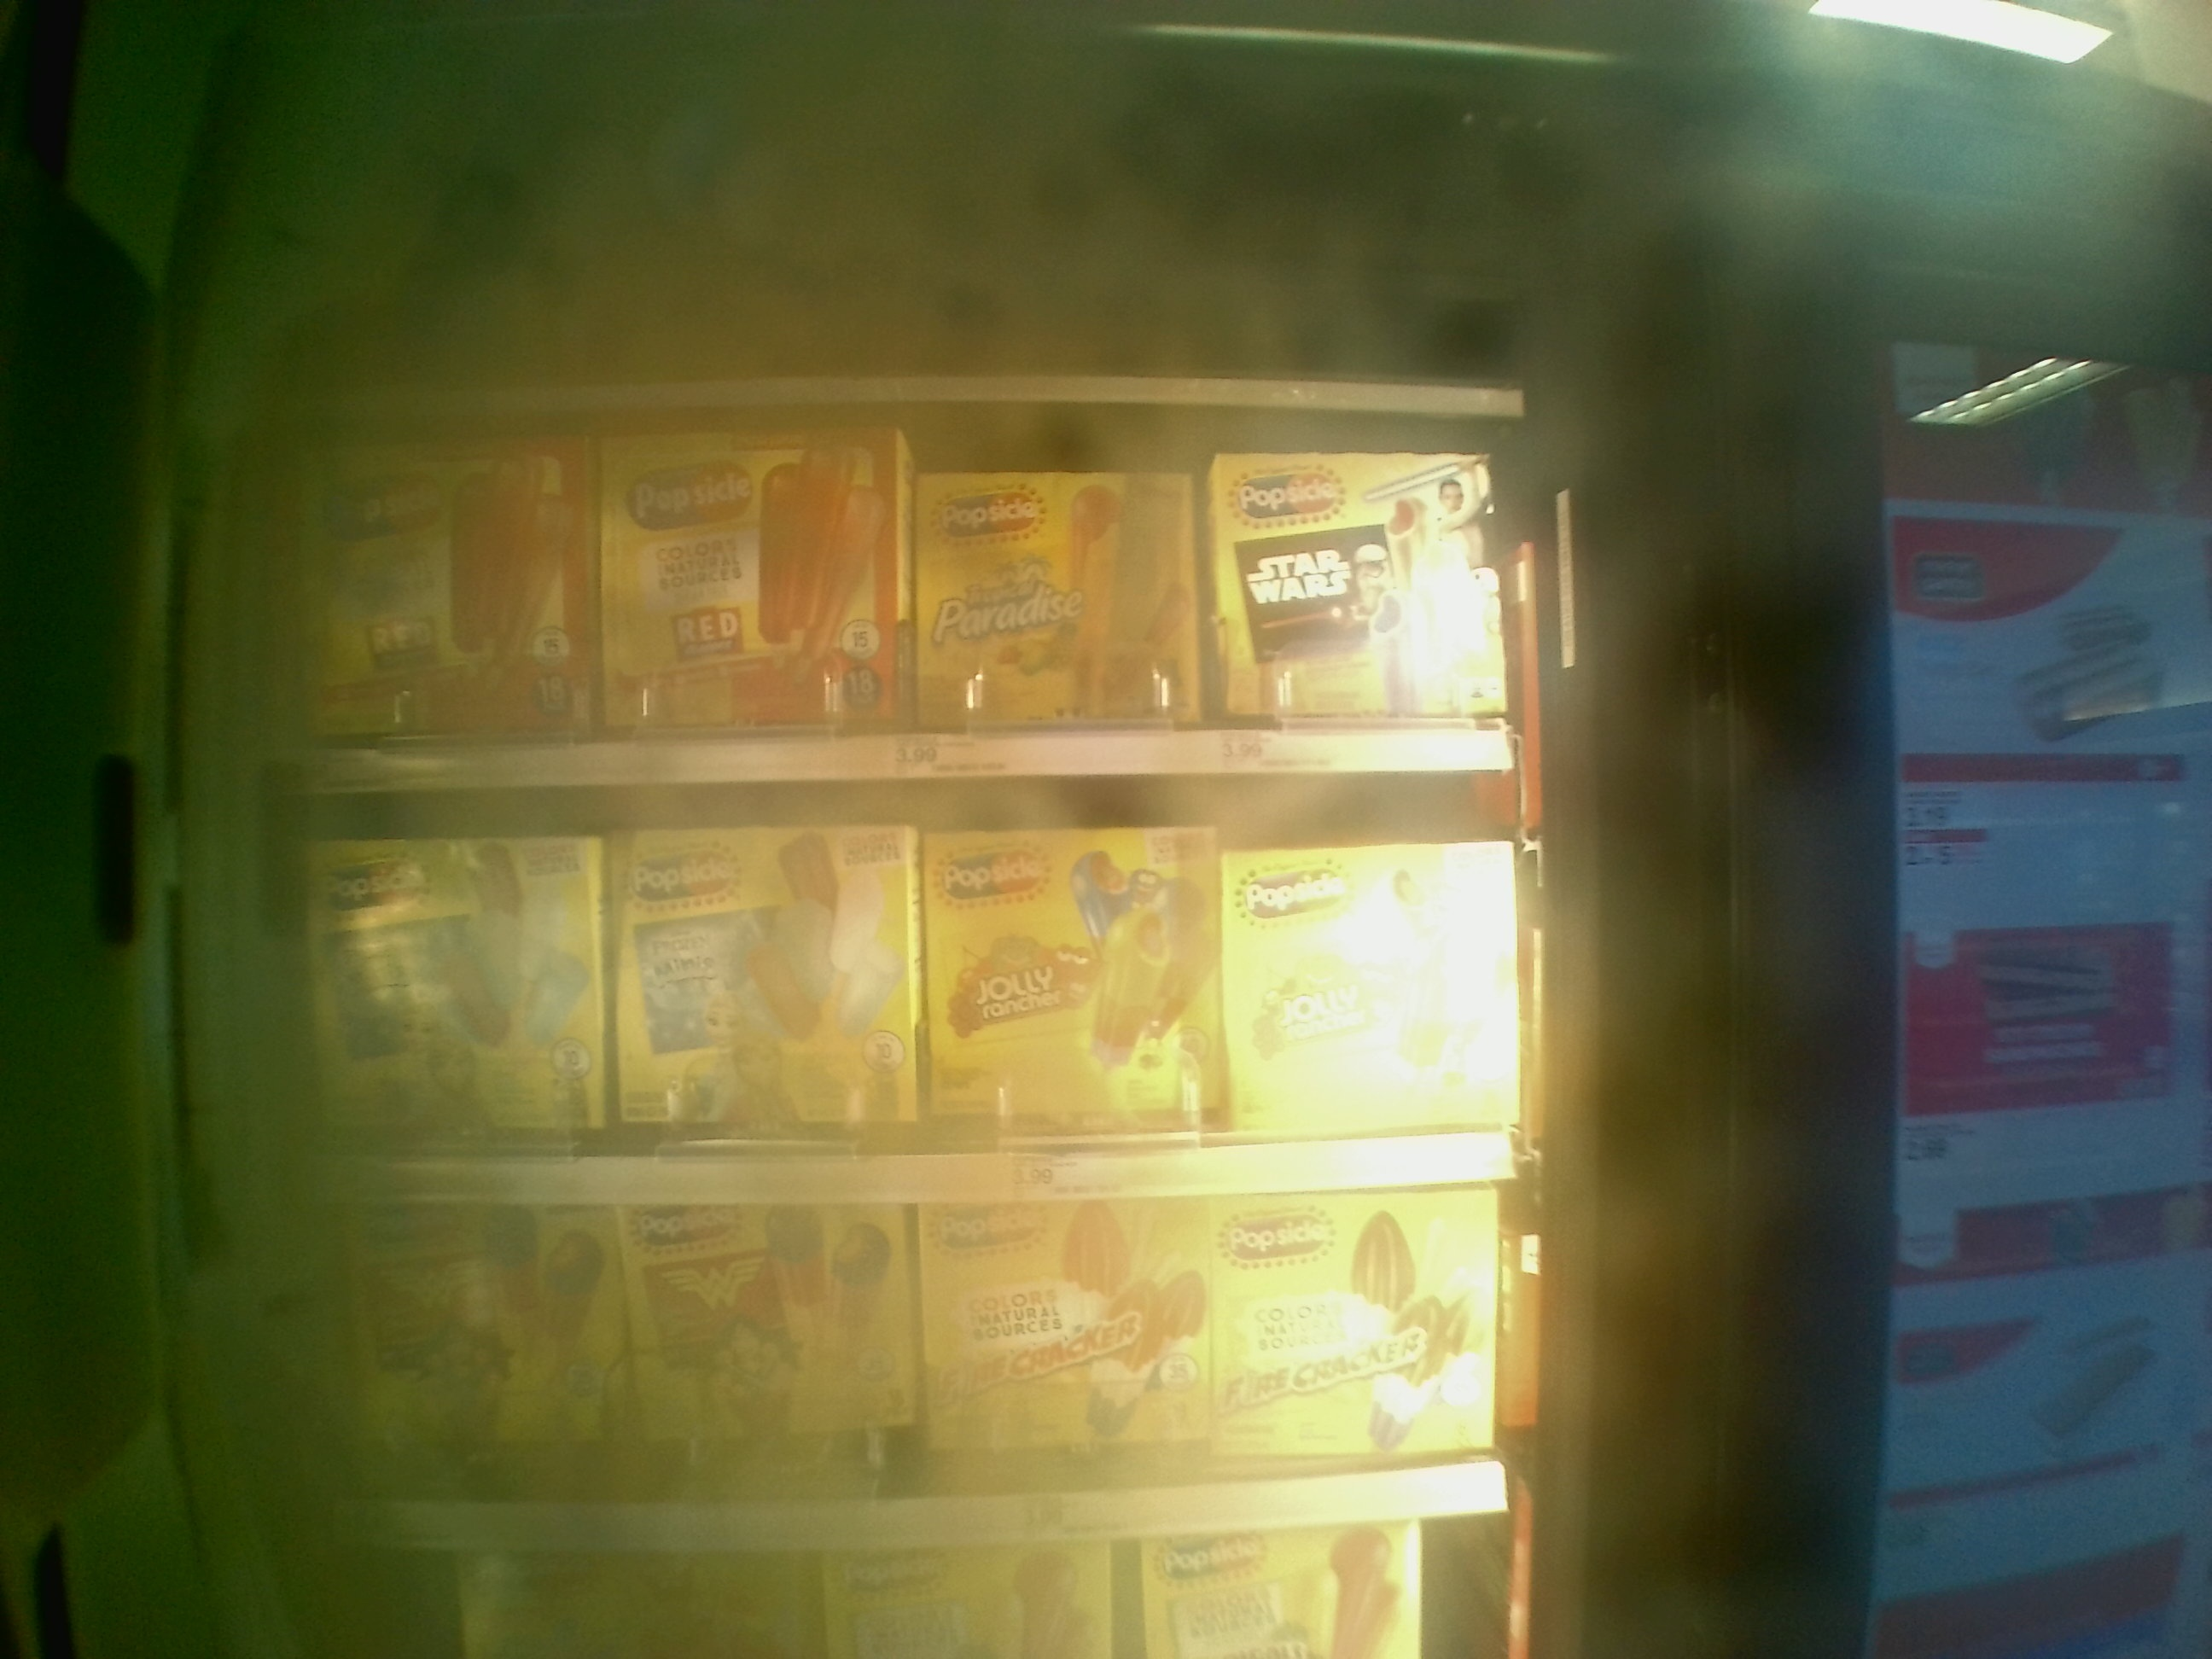shelf: (284, 772, 1514, 1185)
